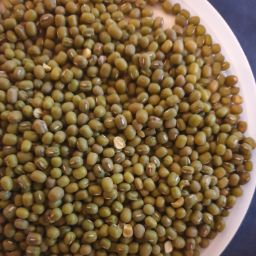Green gram dal(moong): (58, 4, 190, 256), (132, 2, 255, 256), (11, 72, 202, 194), (1, 3, 80, 256)
